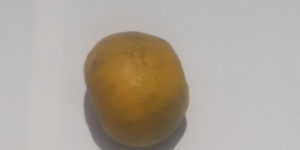BAD: (78, 31, 190, 150)
